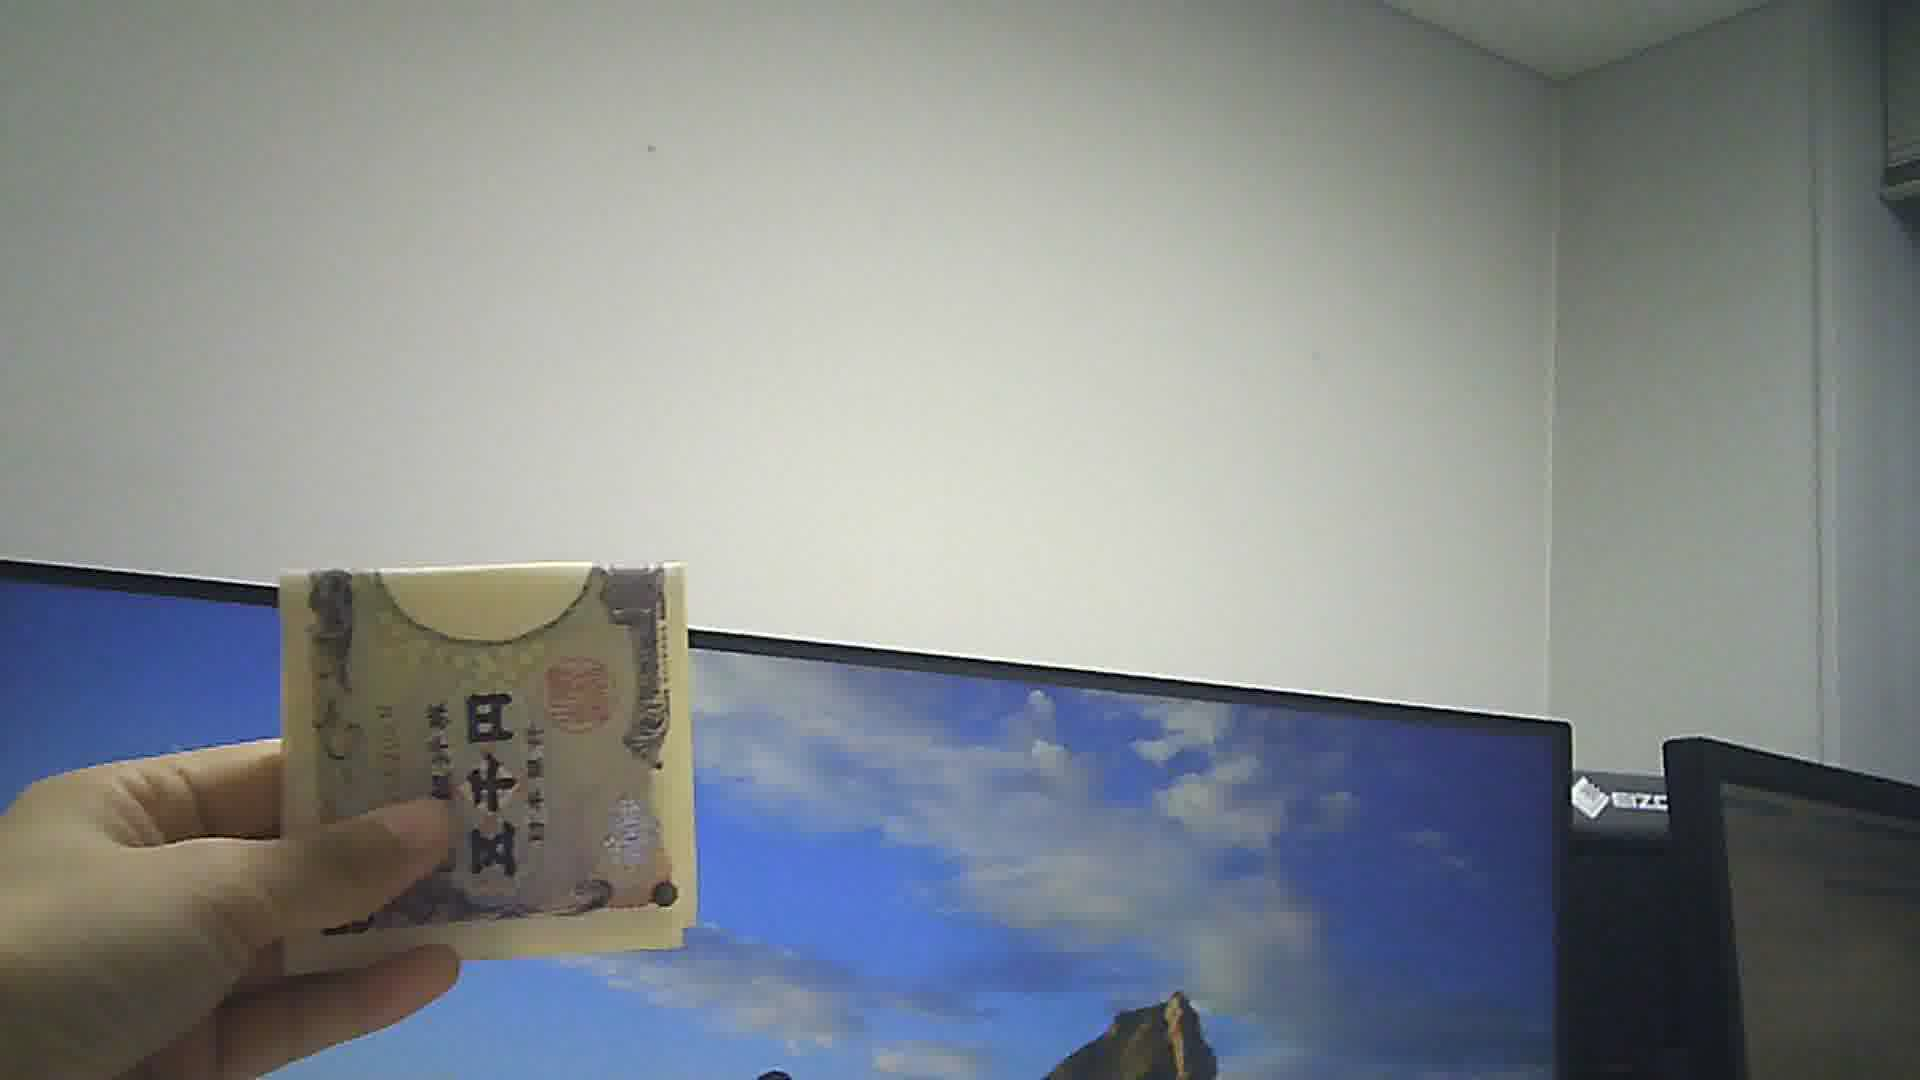5,000 Yen: (262, 542, 702, 967)
